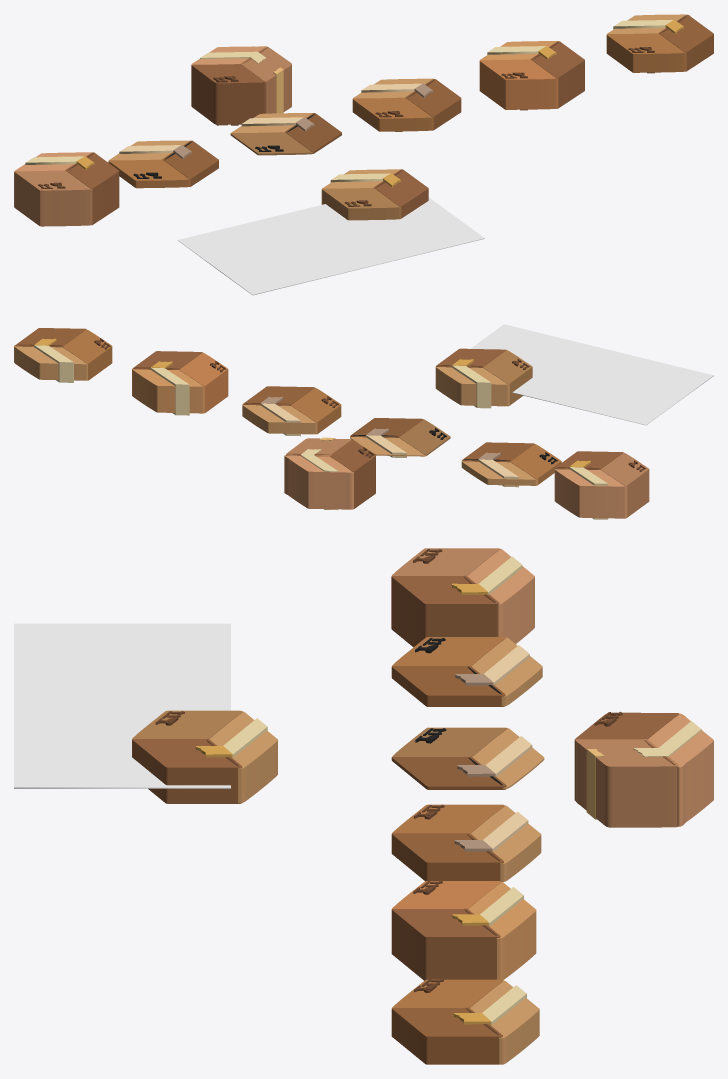
The model's file is emoji_u1f4e6.glb.
3 views of the same model, one above another, from view 1: azimuth 30°, elevation 25°; view 2: azimuth 150°, elevation 25°; view 3: azimuth 270°, elevation 25° (orthographic). The views are drawn at different scales.
Visible parts, largest first — view 1: emoji_u1f4e6; view 2: emoji_u1f4e6; view 3: emoji_u1f4e6.
Boxes of the visible parts, left/top/right/bottom form: emoji_u1f4e6: left=14, top=14, right=713, bottom=295; emoji_u1f4e6: left=14, top=324, right=713, bottom=519; emoji_u1f4e6: left=14, top=548, right=713, bottom=1064.
Bounding box in the file's own units: 0.2484 × 0.016 × 0.1539.
